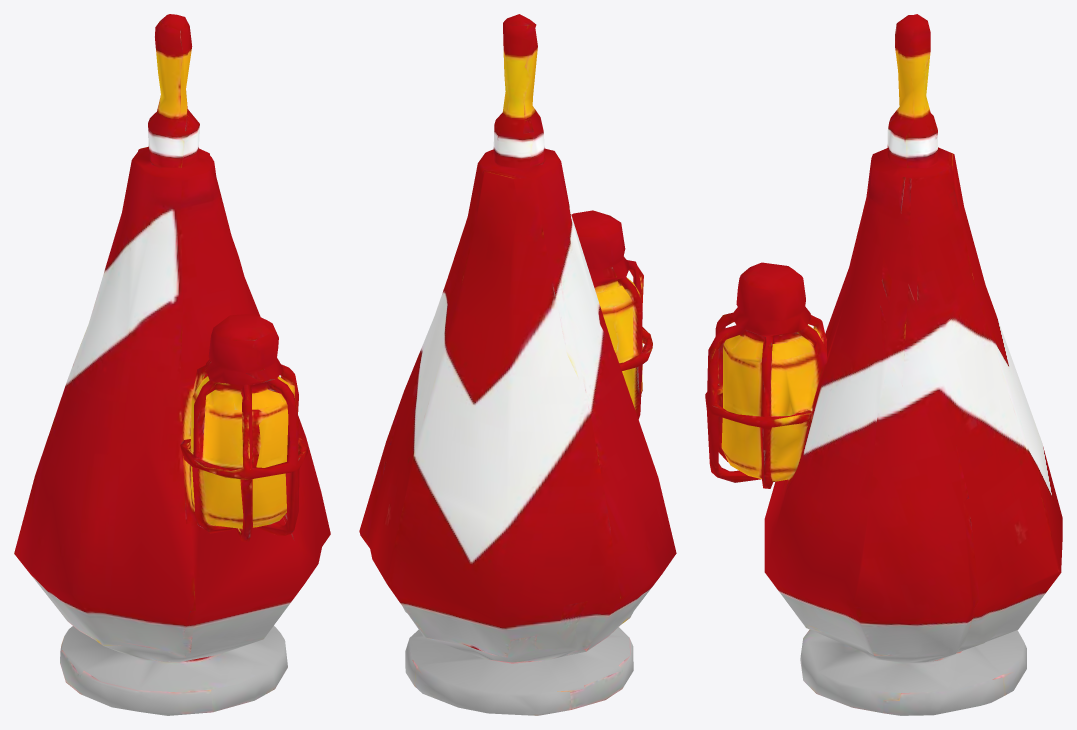
Rendered from buoy.glb.
The picture shows the model from 3 angles, left to right: view 1: azimuth 30°, elevation 25°; view 2: azimuth 150°, elevation 25°; view 3: azimuth 270°, elevation 25°; orthographic projection.
Visible parts, largest first — view 1: 0; view 2: 0; view 3: 0.
Boxes of the visible parts, box(x1,y1,x2,y2) form: 0: box(14, 14, 330, 715); 0: box(359, 14, 676, 715); 0: box(705, 14, 1062, 715).
Bounding box in the file's own units: 0.8414 × 1.91 × 0.9431.
Materials: 1 (1 with a texture image).
